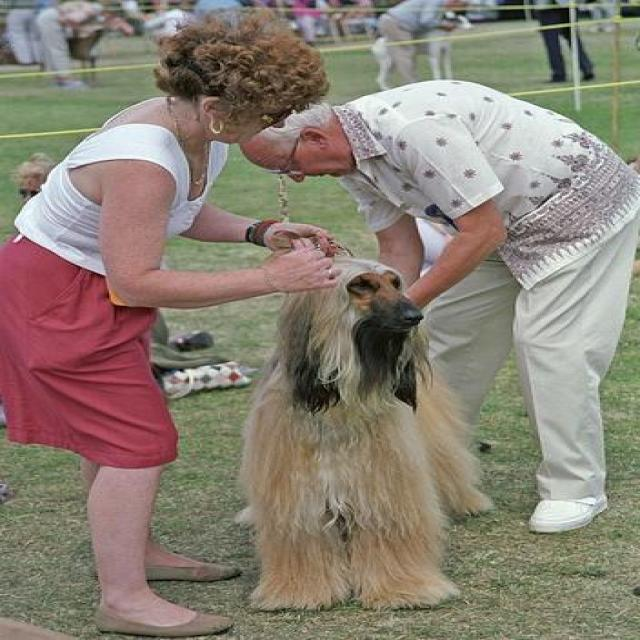afghan_hound: (231, 256, 498, 611)
